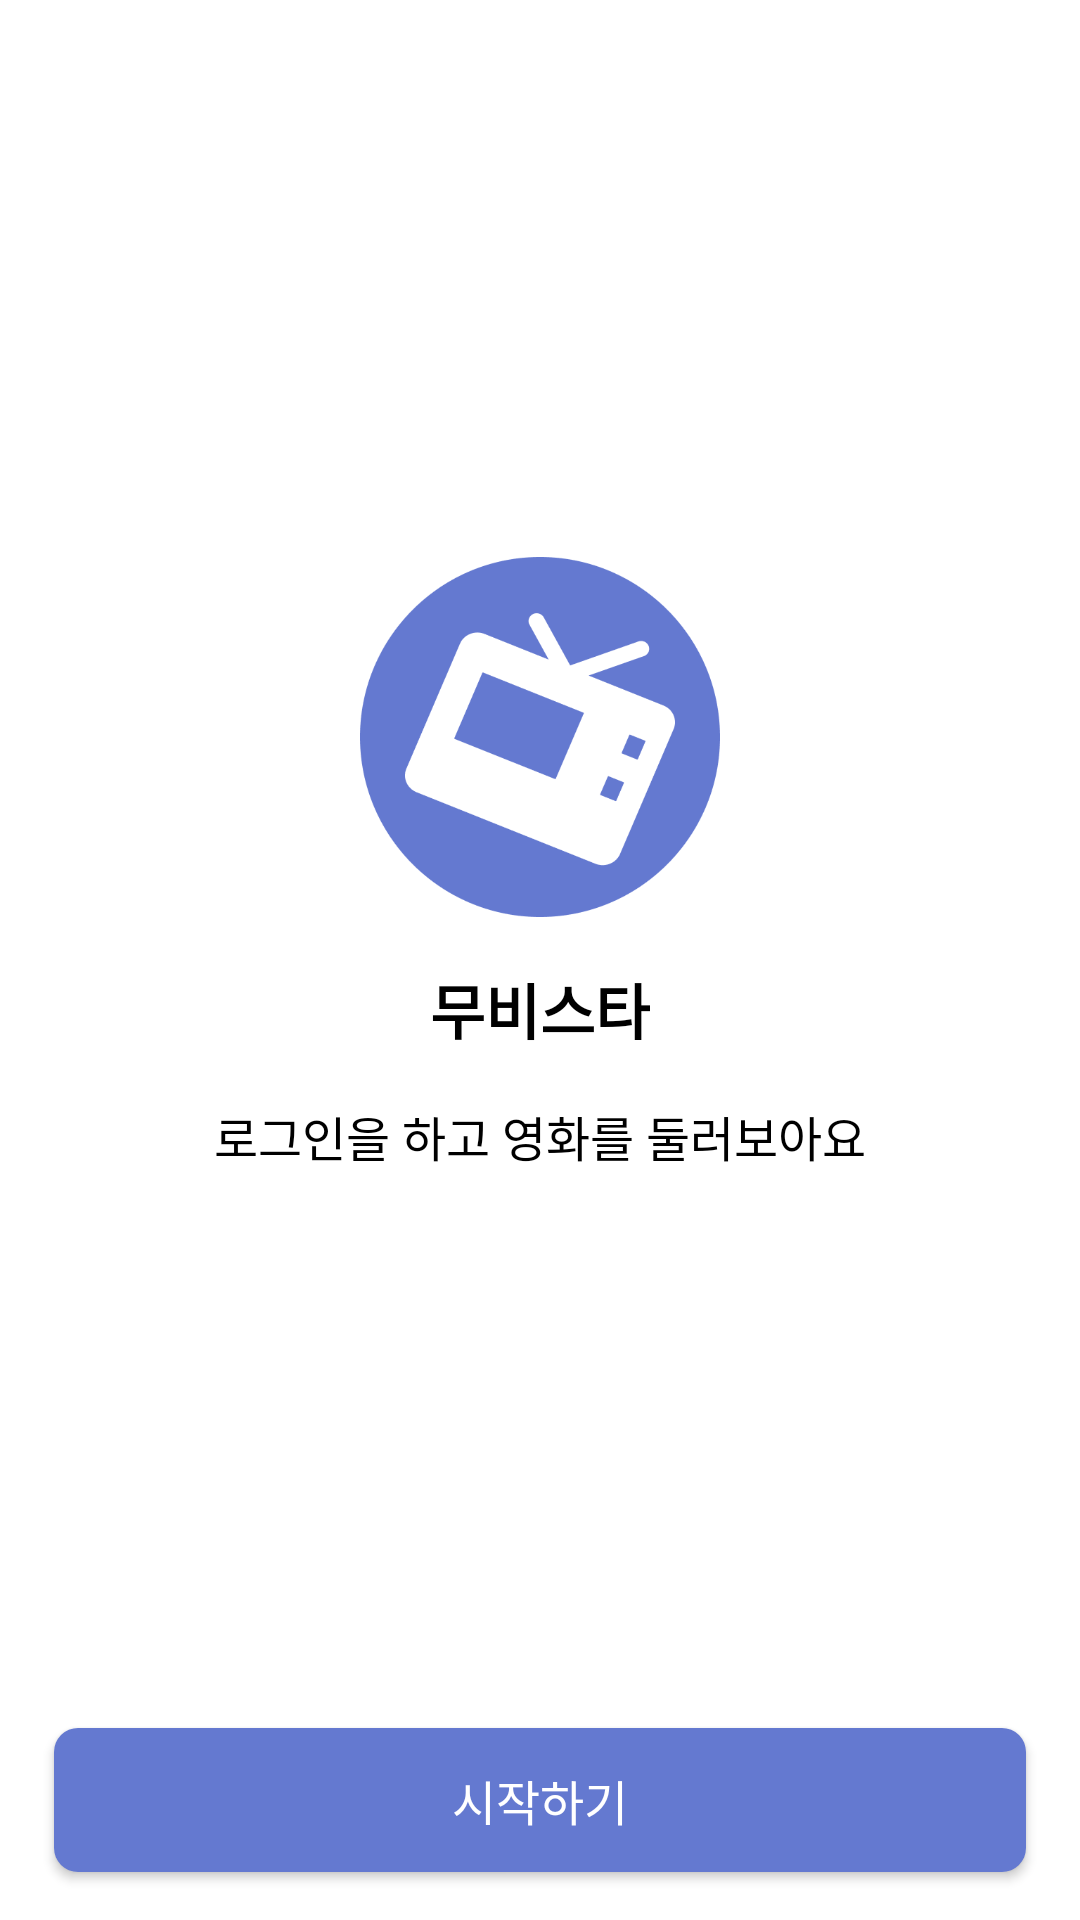

Point at icon controls on the screen. Image size 1080px x 1920px, points as (x,y).
app: (540,737)
